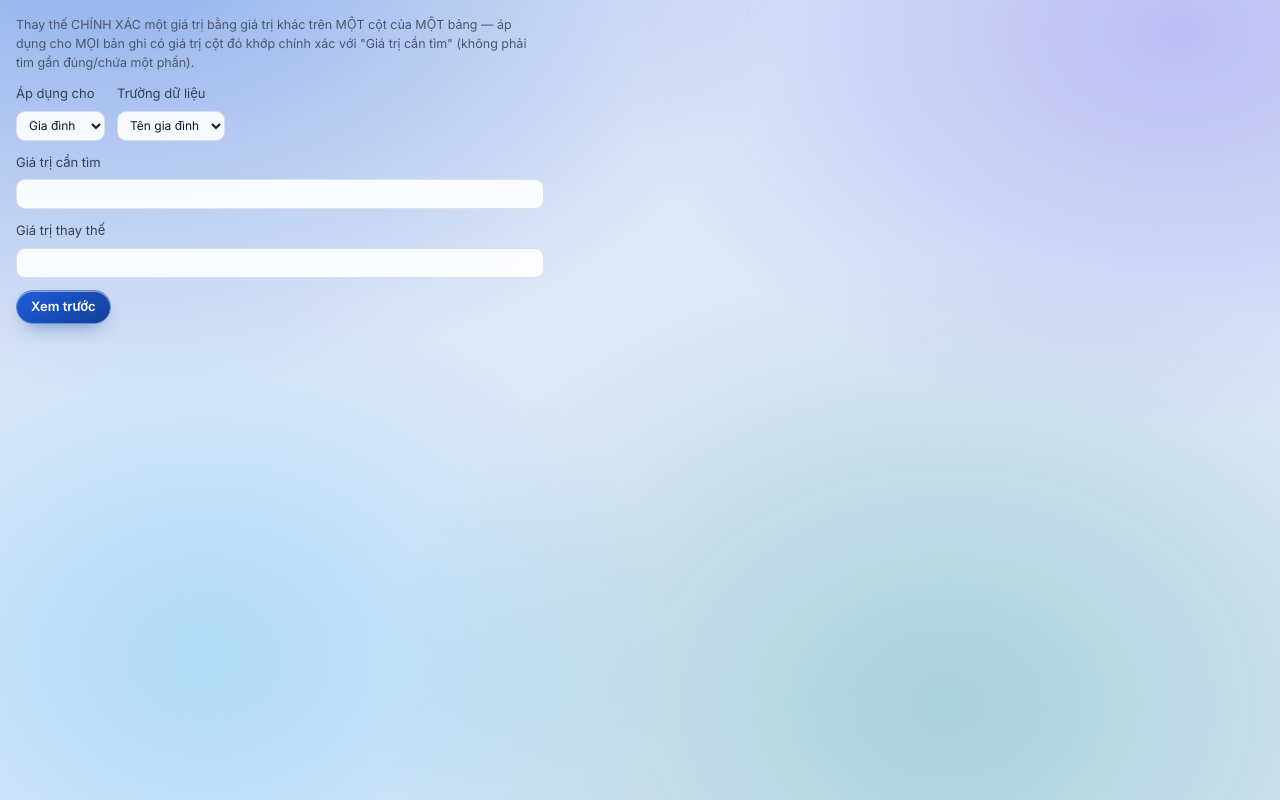
Scenario: TimThayThePage › bao loi neu chua nhap gia tri can tim, khong goi API
What coordinates should you click on to do the following:
click the button "Xem trước"
I would click on:
 (63, 307)
Its box is x1=16 y1=290 x2=111 y2=324.
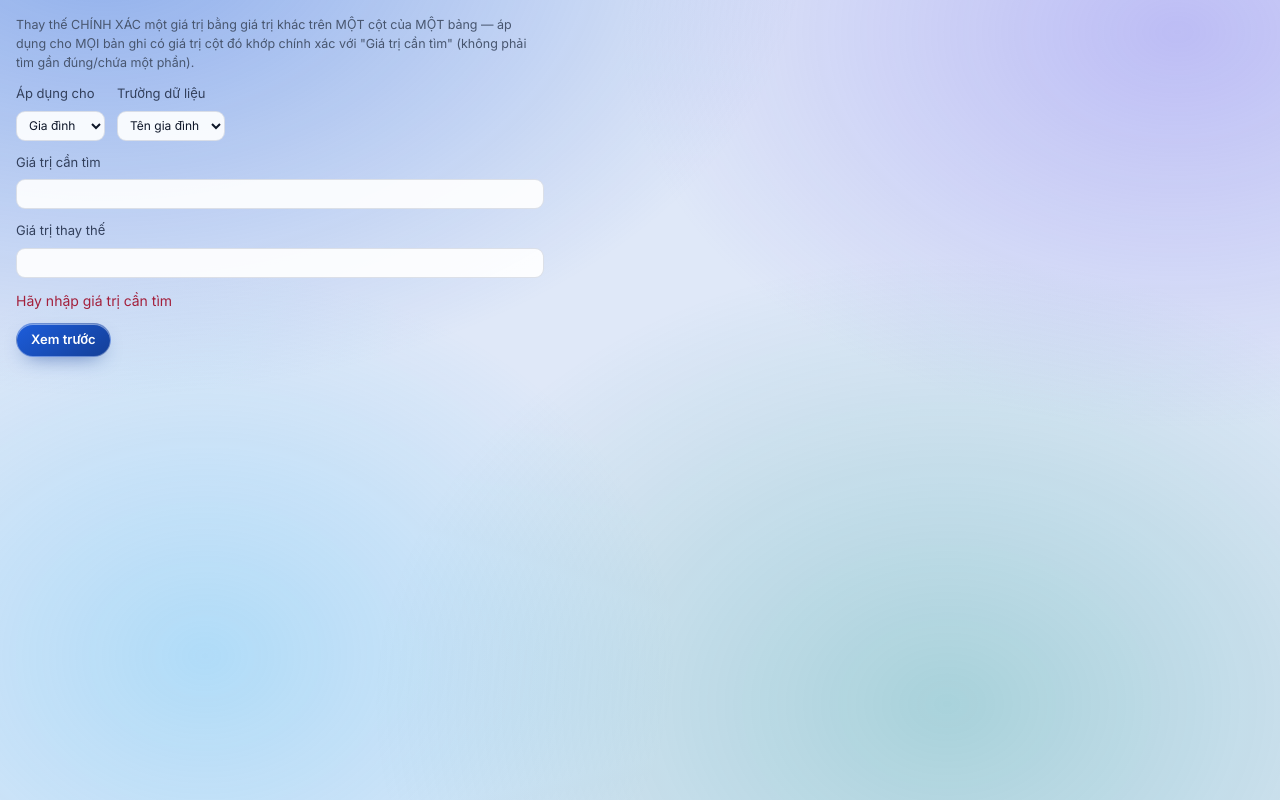
Expected: the text "Hãy nhập giá trị cần tìm" is shown, x1=16 y1=292 x2=172 y2=309
